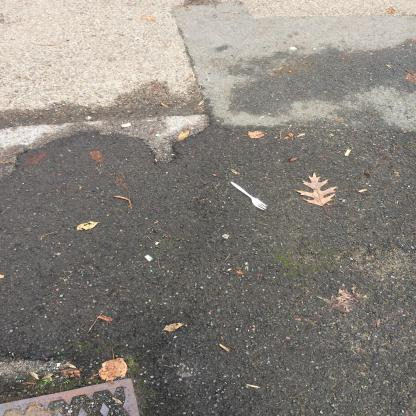plastik: (231, 182, 271, 214)
